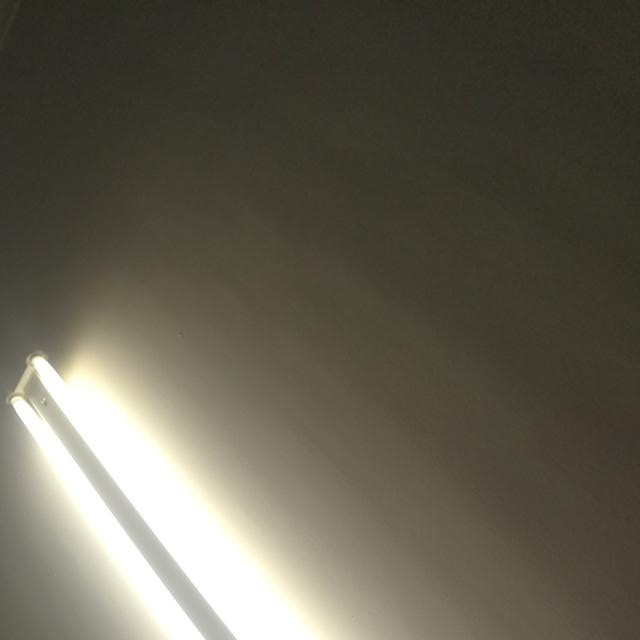fluorescent tube: (0, 321, 479, 640)
